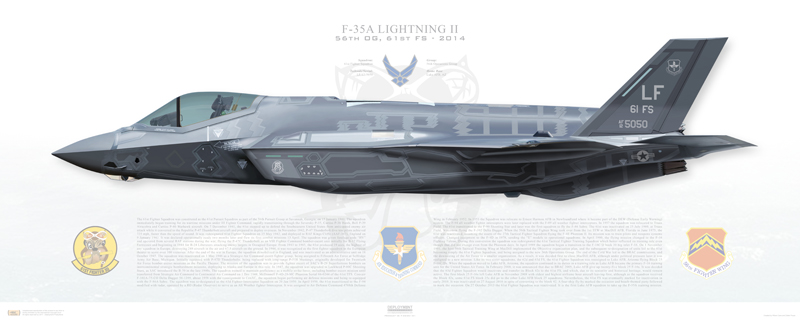F-35 Lightning: (30, 33, 759, 227)
